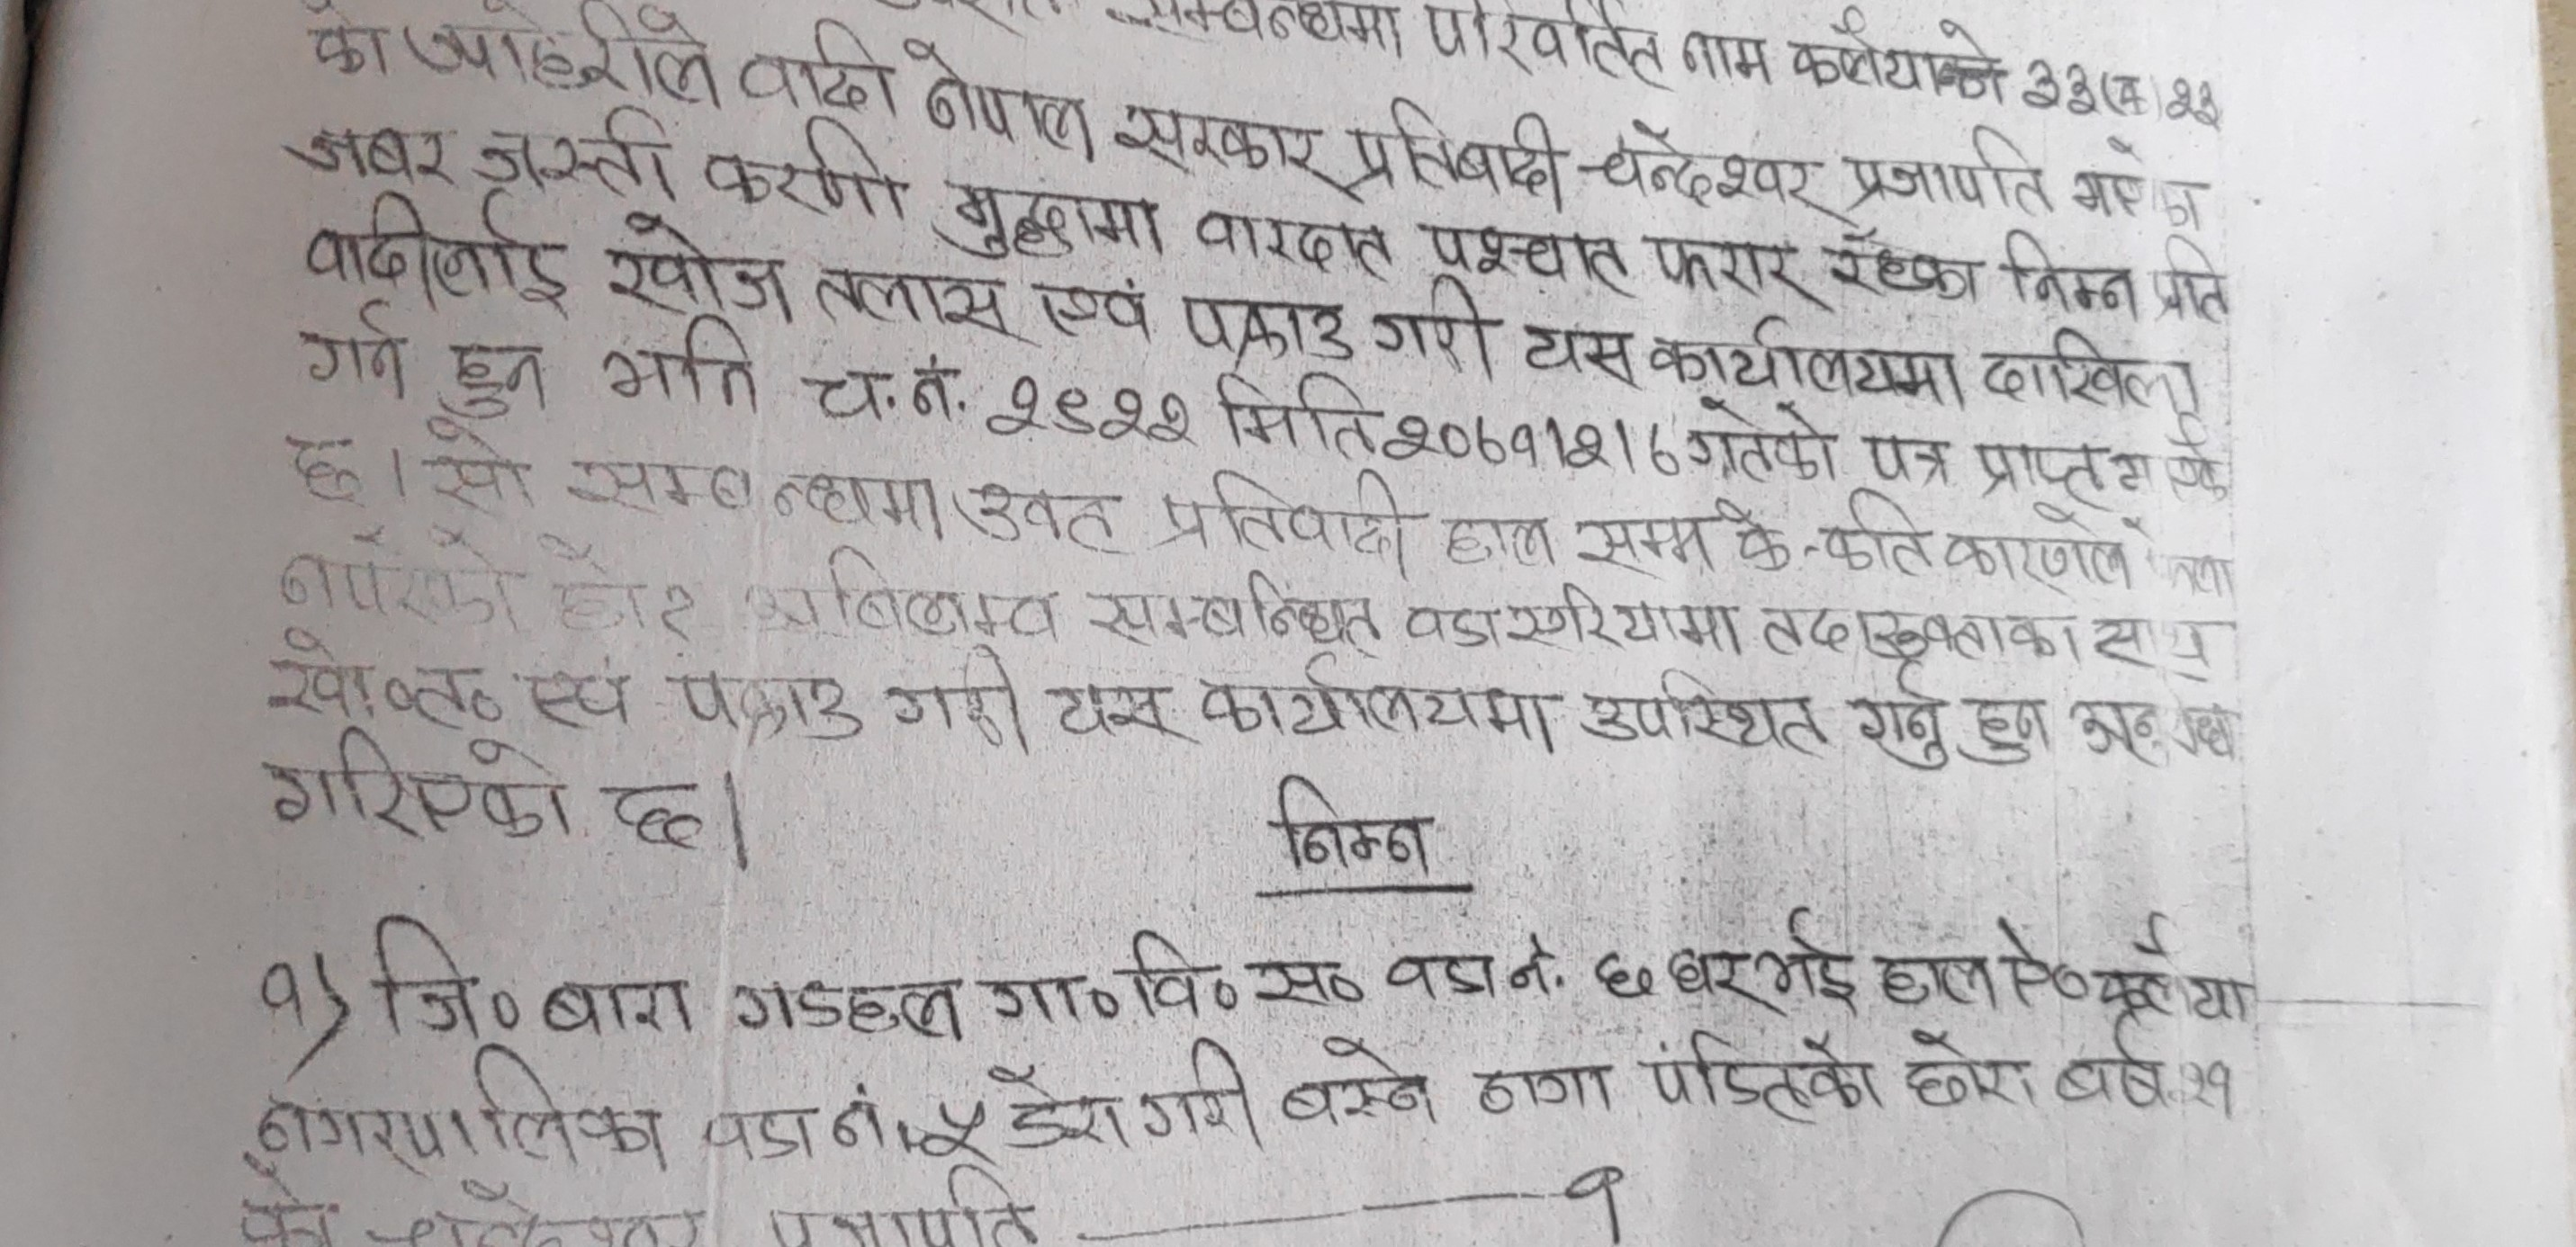text: (250, 1043, 674, 1175), (253, 721, 575, 844), (974, 927, 1372, 1025), (1198, 654, 1564, 761), (255, 631, 634, 729), (399, 3, 720, 110), (555, 450, 946, 537), (299, 186, 568, 309), (1646, 311, 1963, 411), (1406, 575, 1745, 664), (1084, 564, 1385, 662), (1153, 465, 1411, 567), (1664, 902, 1863, 1028), (1347, 92, 1577, 200), (1633, 1024, 1886, 1122), (933, 164, 1171, 268), (1751, 595, 2085, 669), (1579, 664, 1832, 761), (698, 112, 907, 228), (1579, 115, 1828, 212), (904, 35, 1096, 159), (1378, 406, 1690, 481), (1421, 5, 1671, 99), (598, 204, 800, 317), (1837, 125, 2060, 225), (2088, 899, 2261, 1025), (1975, 324, 2205, 417), (468, 105, 683, 202), (1722, 481, 1942, 575), (1272, 771, 1442, 886), (1111, 99, 1327, 187), (1424, 200, 1635, 289), (1943, 498, 2136, 593), (726, 974, 968, 1050), (877, 642, 1032, 759), (984, 368, 1198, 452), (677, 665, 866, 759), (1188, 200, 1395, 286), (2067, 677, 2238, 777), (810, 256, 1009, 342), (738, 16, 904, 118), (1129, 1030, 1262, 1157), (1275, 1035, 1446, 1132), (361, 905, 483, 1040), (986, 1056, 1135, 1165), (603, 314, 764, 414), (1372, 278, 1503, 396), (1209, 368, 1375, 460), (1822, 219, 1986, 309), (956, 475, 1129, 560), (1180, 288, 1359, 368), (793, 347, 968, 429), (1784, 13, 1945, 102), (1686, 394, 1840, 486), (1899, 1024, 2044, 1119), (2070, 130, 2208, 228), (1996, 223, 2141, 315), (2045, 1007, 2169, 1114), (299, 306, 419, 411), (1648, 223, 1809, 301), (1848, 664, 1958, 772), (279, 117, 457, 182), (425, 427, 547, 519), (542, 974, 693, 1047), (1465, 1055, 1617, 1127), (1027, 266, 1160, 347), (2085, 611, 2226, 685), (1572, 511, 1713, 583), (1045, 675, 1183, 744), (442, 337, 555, 421), (1380, 938, 1498, 1017), (1513, 315, 1638, 389), (1873, 946, 2003, 1017), (2136, 526, 2249, 605), (2146, 230, 2234, 330), (1970, 437, 2111, 499), (700, 1099, 821, 1170), (1958, 685, 2055, 771), (603, 782, 715, 853), (1439, 513, 1557, 573), (284, 432, 366, 513), (908, 1093, 999, 1165), (1500, 922, 1564, 1017), (1863, 427, 1953, 488), (1674, 21, 1769, 79), (1585, 943, 1658, 1012), (2157, 444, 2234, 504), (831, 1083, 889, 1163), (2164, 69, 2228, 136), (2019, 61, 2095, 117), (253, 955, 309, 1030)
